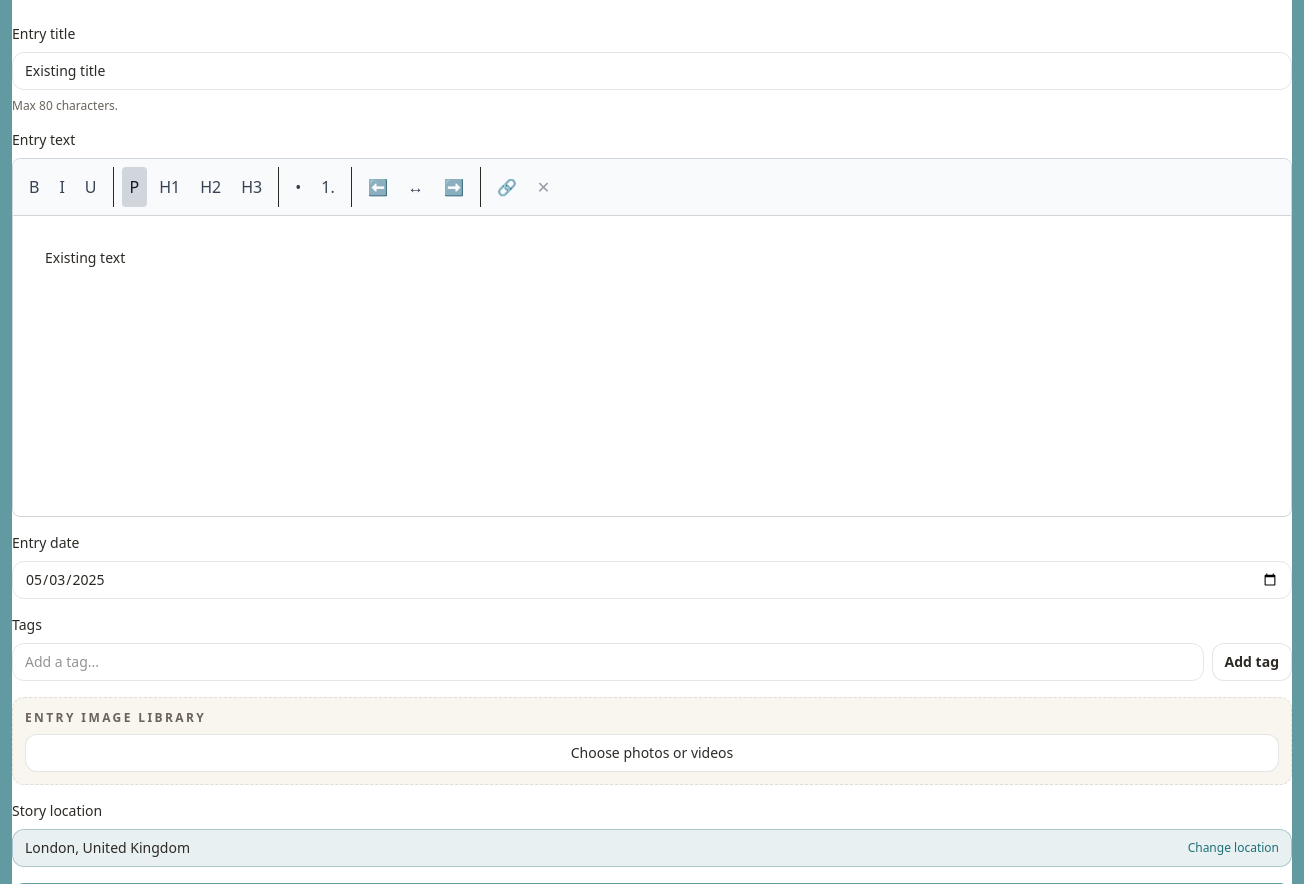
Test case: EditEntryForm › shows search input when change location is clicked
Click the button "Change location": click(1233, 848) [1188,840,1279,856]
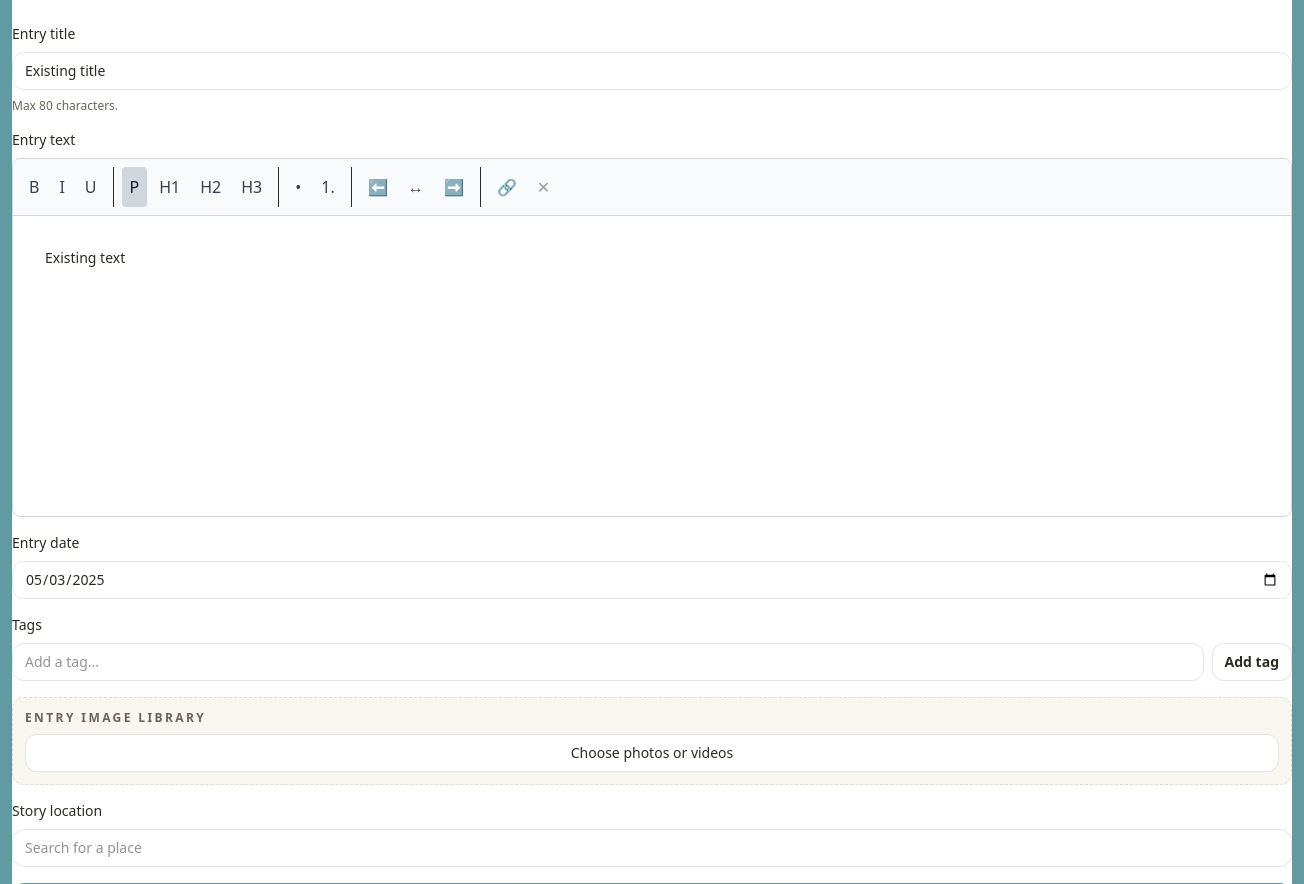
Expected: the field with placeholder "Search for a place" is shown, [12,829,1292,867]
